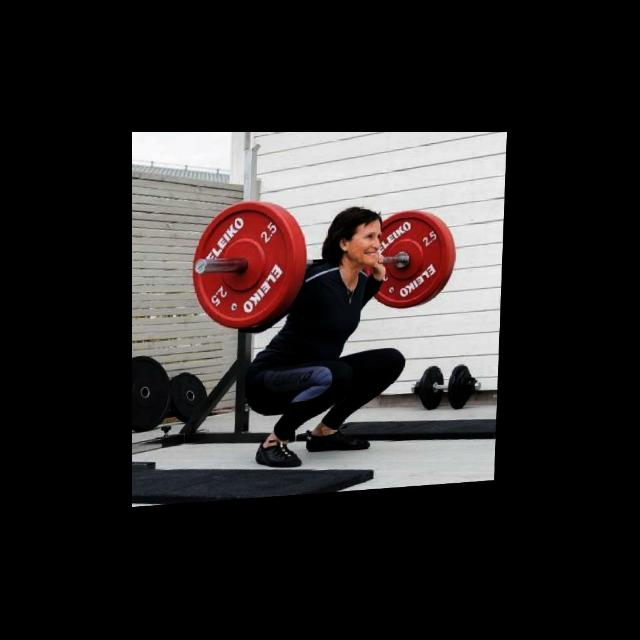barbell: (192, 200, 298, 335)
